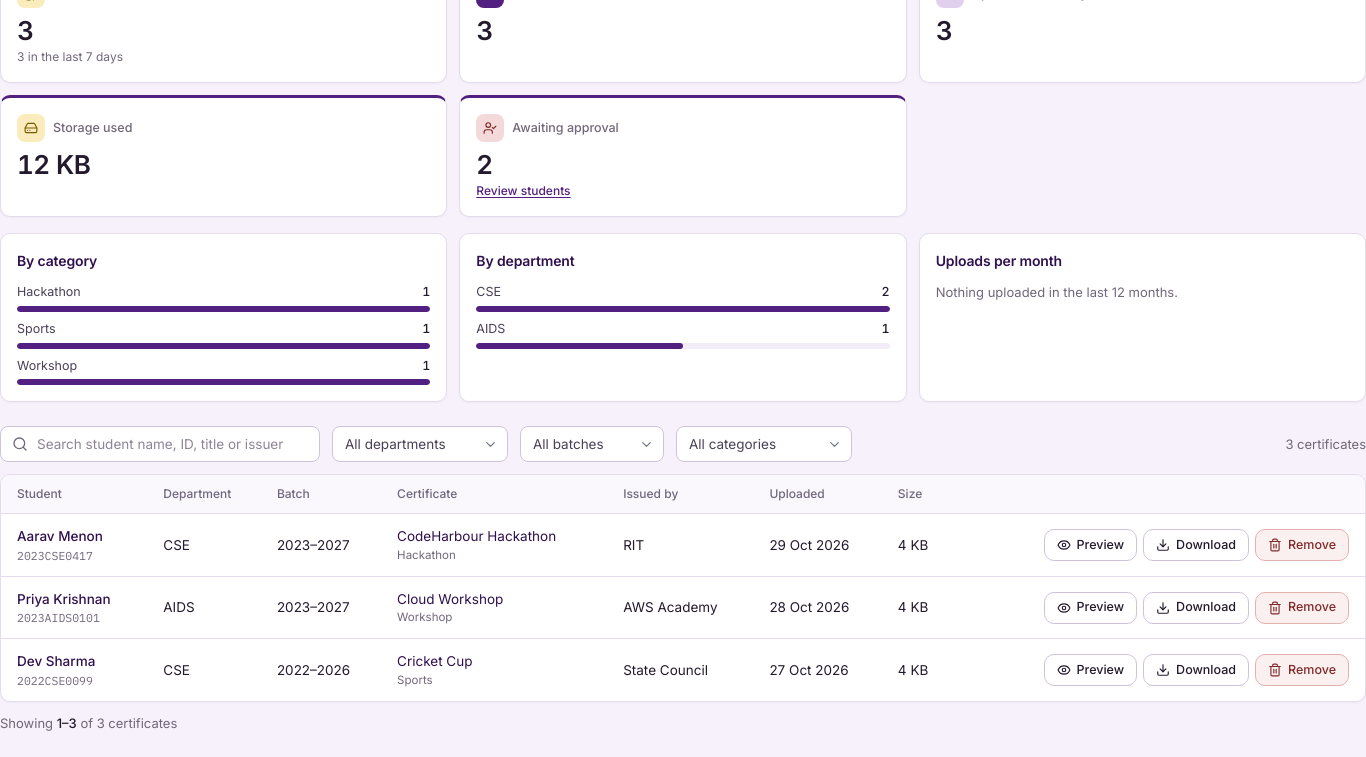
administrators › see why when the server refuses a removal, and nothing changes
(page scrolled)
Click the button named "Remove: Cricket Cup".
click(1302, 670)  # box x1=1255 y1=654 x2=1349 y2=686
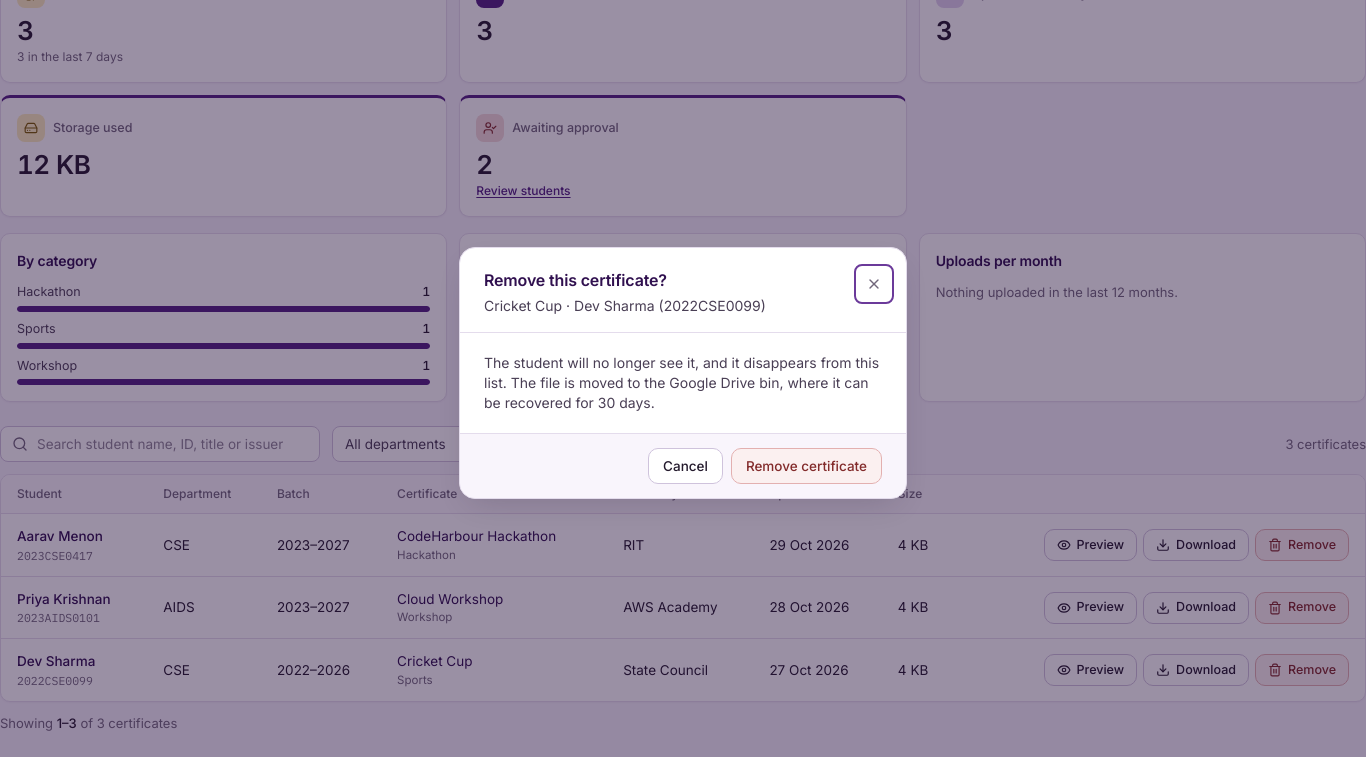
Click the button "Remove certificate".
click(806, 466)  # box x1=731 y1=448 x2=882 y2=484
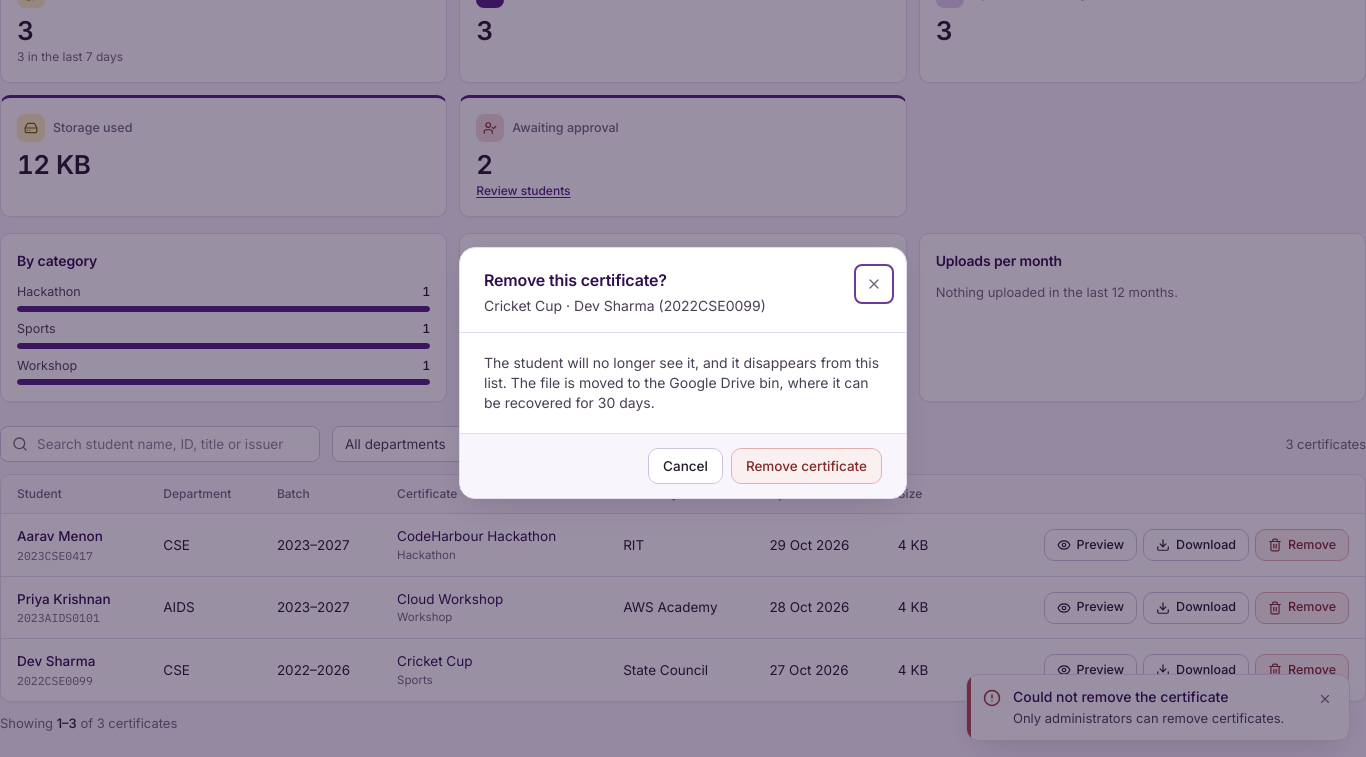
Check: the text "Only administrators can remove certificates." is shown, box x1=1013 y1=708 x2=1301 y2=728
